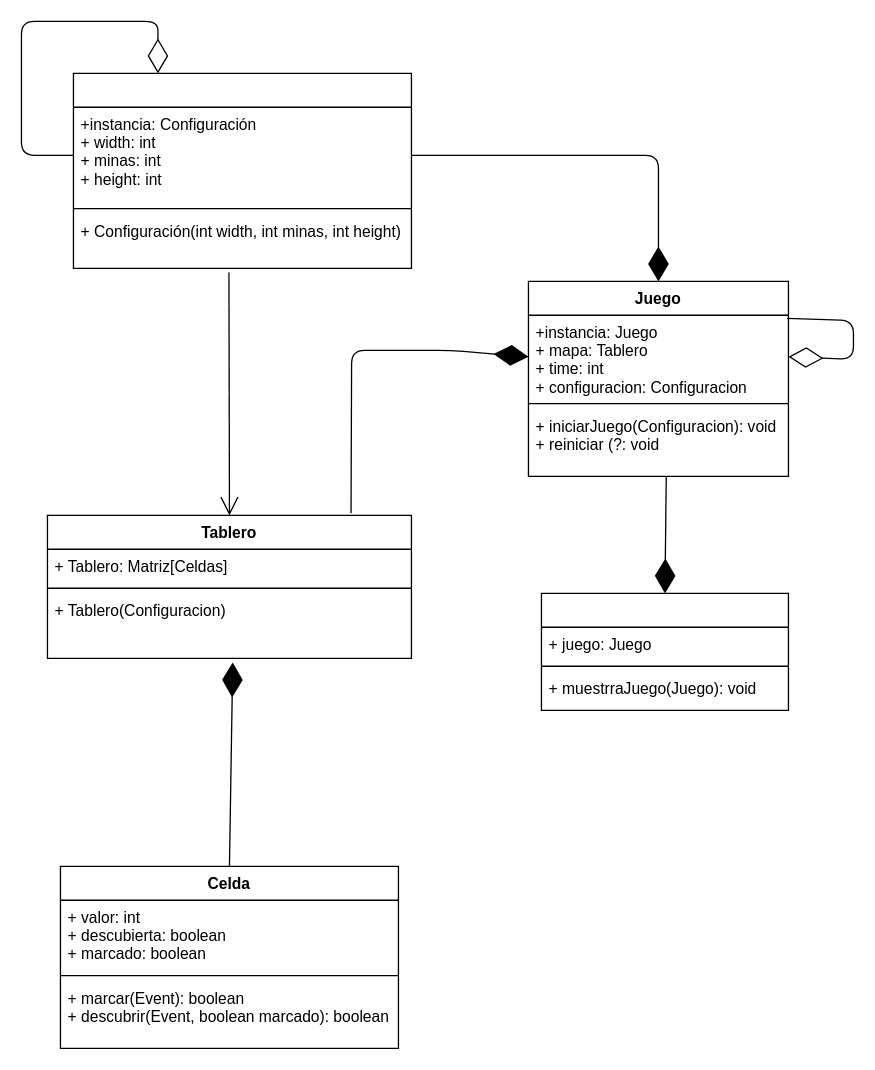
Some shapes in this 875 by 1070 pixel diagram are drawn without their labels. The shapes that lost their labels are listed below. From the top down, each one's box as (x1, y1, x2, y2) in pixels, then its label:
(72, 72, 411, 268): Configuracion
(540, 592, 788, 710): GUI
